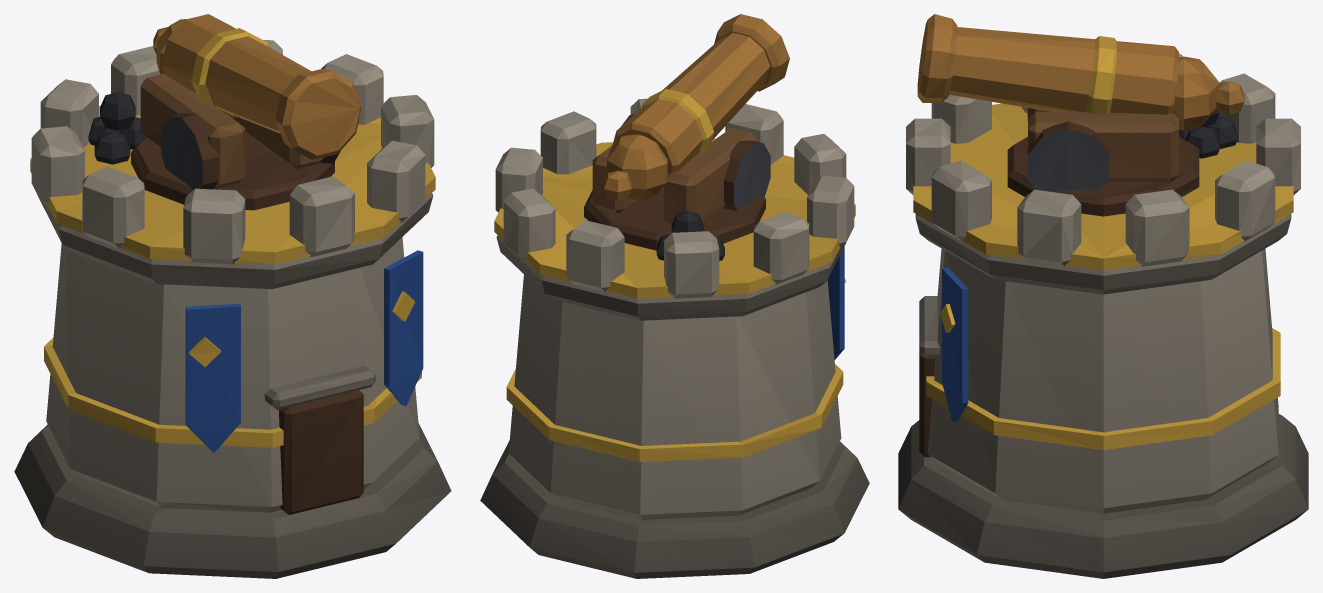
The model's file is great_cannon.glb.
3 views of the same model, side by side, from view 1: azimuth 30°, elevation 25°; view 2: azimuth 150°, elevation 25°; view 3: azimuth 270°, elevation 25° (orthographic). The views are drawn at different scales.
Visible parts, largest first — view 1: great_cannon; view 2: great_cannon; view 3: great_cannon.
Part boxes in pixels (bbox=[...]): great_cannon: bbox=[14, 14, 451, 578]; great_cannon: bbox=[480, 14, 869, 578]; great_cannon: bbox=[898, 14, 1308, 578].
Size of the model in its own units: 0.96 by 1.16 by 0.913.
